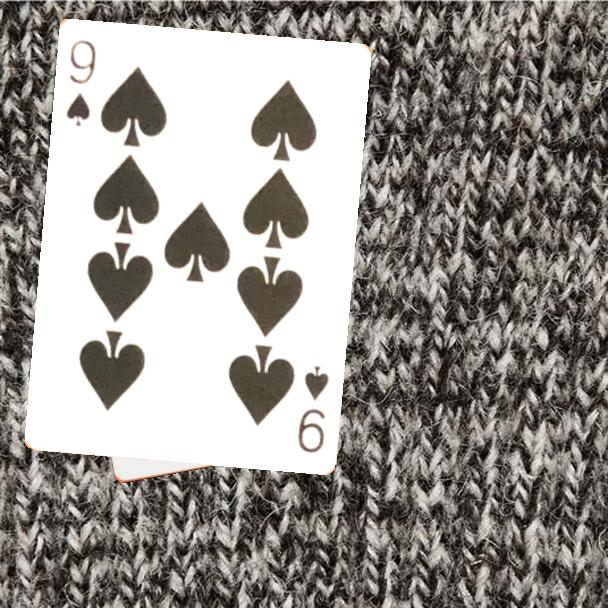s09: (294, 361, 331, 455), (62, 35, 98, 129)
